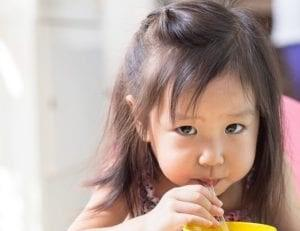Healthy: (122, 19, 284, 207)
